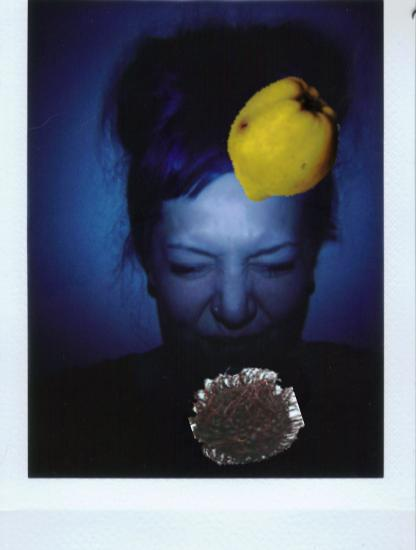Quince: (217, 79, 347, 209)
Rambutan: (190, 360, 299, 469)
